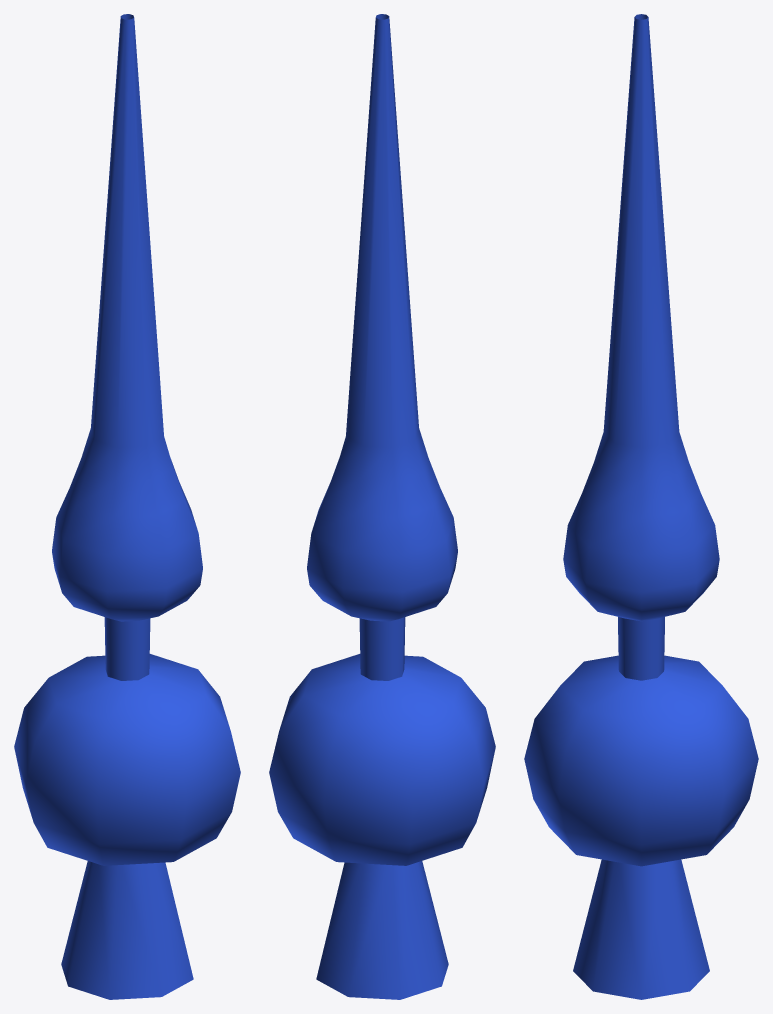
The model's file is Topper2.fbx.
The picture shows the model from 3 angles, left to right: view 1: azimuth 30°, elevation 25°; view 2: azimuth 150°, elevation 25°; view 3: azimuth 270°, elevation 25°; orthographic projection.
Parts seen in each view (by area): view 1: TopperToy2; view 2: TopperToy2; view 3: TopperToy2.
Boxes of the visible parts, x1,y1,x2,y2 form: TopperToy2: [14, 14, 240, 999]; TopperToy2: [269, 14, 495, 999]; TopperToy2: [524, 14, 758, 999].
Size of the model in its own units: 27.64 by 126 by 27.64.
